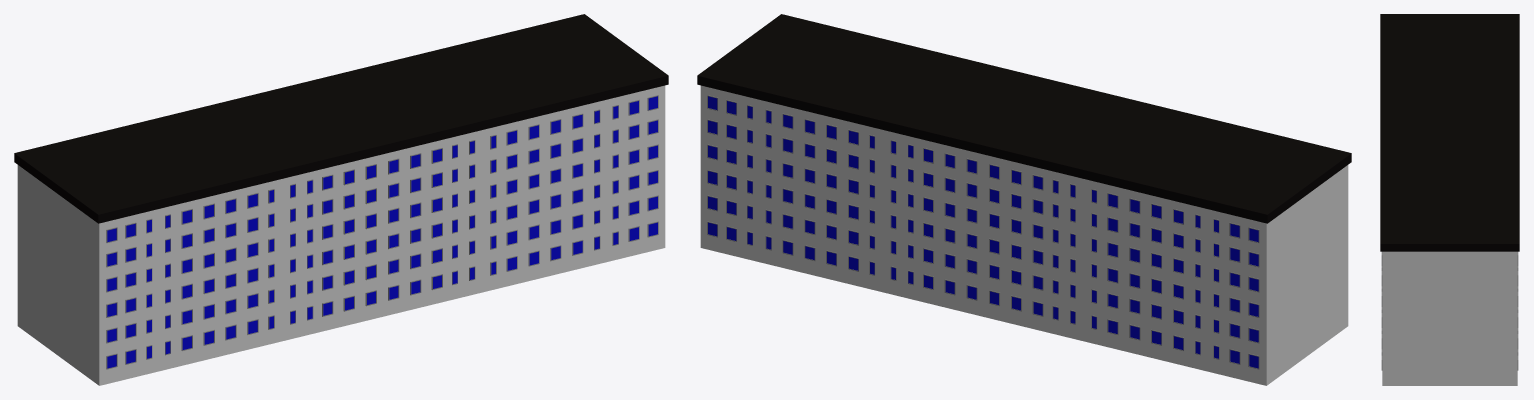
File: office2.obj
The picture shows the model from 3 angles, left to right: view 1: azimuth 30°, elevation 25°; view 2: azimuth 150°, elevation 25°; view 3: azimuth 270°, elevation 25°; orthographic projection. The views are drawn at different scales.
Parts seen in each view (by area): view 1: Cube.001_Cube, Windows_Plane.001; view 2: Cube.001_Cube, Windows_Plane.001; view 3: Cube.001_Cube, Windows_Plane.001.
Part boxes in pixels (left/top/right/bottom): Cube.001_Cube: left=14, top=14, right=668, bottom=385; Windows_Plane.001: left=106, top=95, right=658, bottom=369; Cube.001_Cube: left=697, top=14, right=1351, bottom=385; Windows_Plane.001: left=707, top=95, right=1259, bottom=369; Cube.001_Cube: left=1380, top=14, right=1519, bottom=385; Windows_Plane.001: left=1381, top=252, right=1518, bottom=370.
Size of the model in its own units: 64.51 by 18.66 by 16.51.
